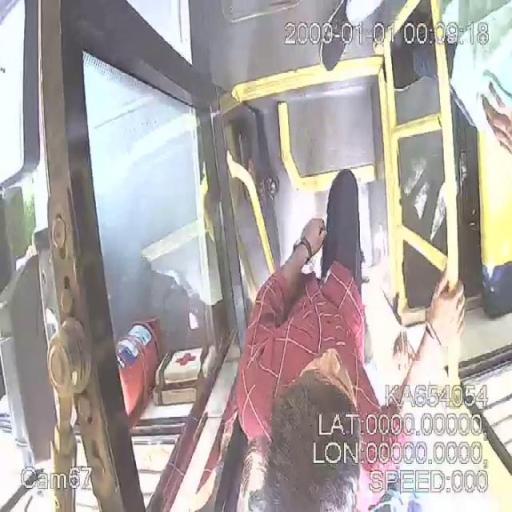persona: (233, 168, 466, 511)
